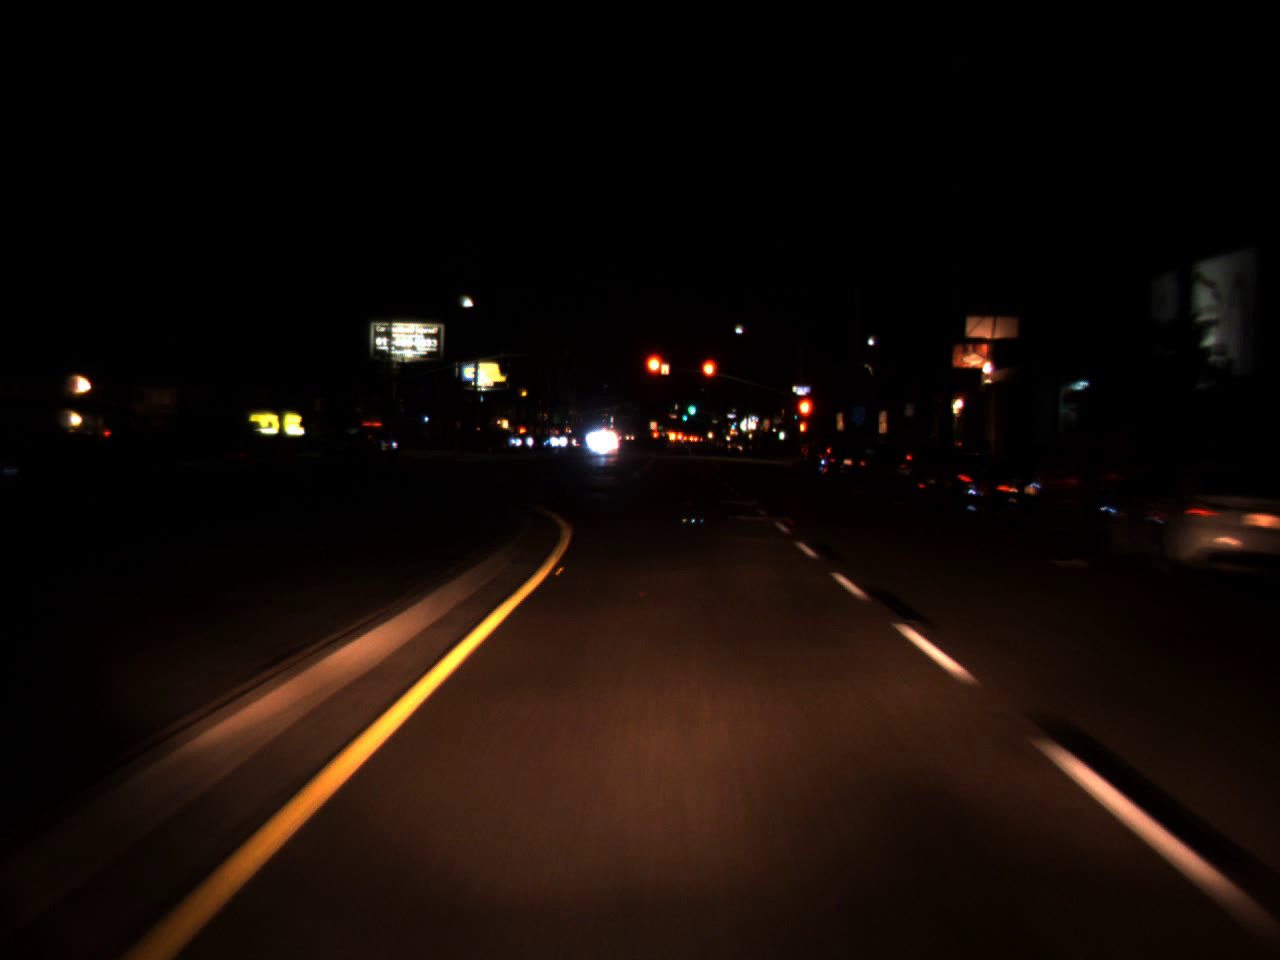go: (684, 397, 696, 415), (729, 418, 736, 430)
stop: (643, 351, 667, 396), (794, 394, 815, 439), (700, 357, 718, 397)
